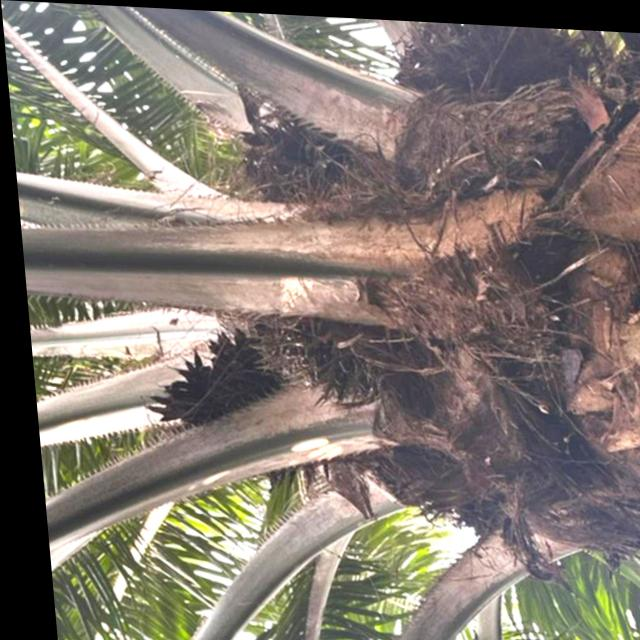unripe: (380, 15, 579, 121), (241, 302, 414, 413)
